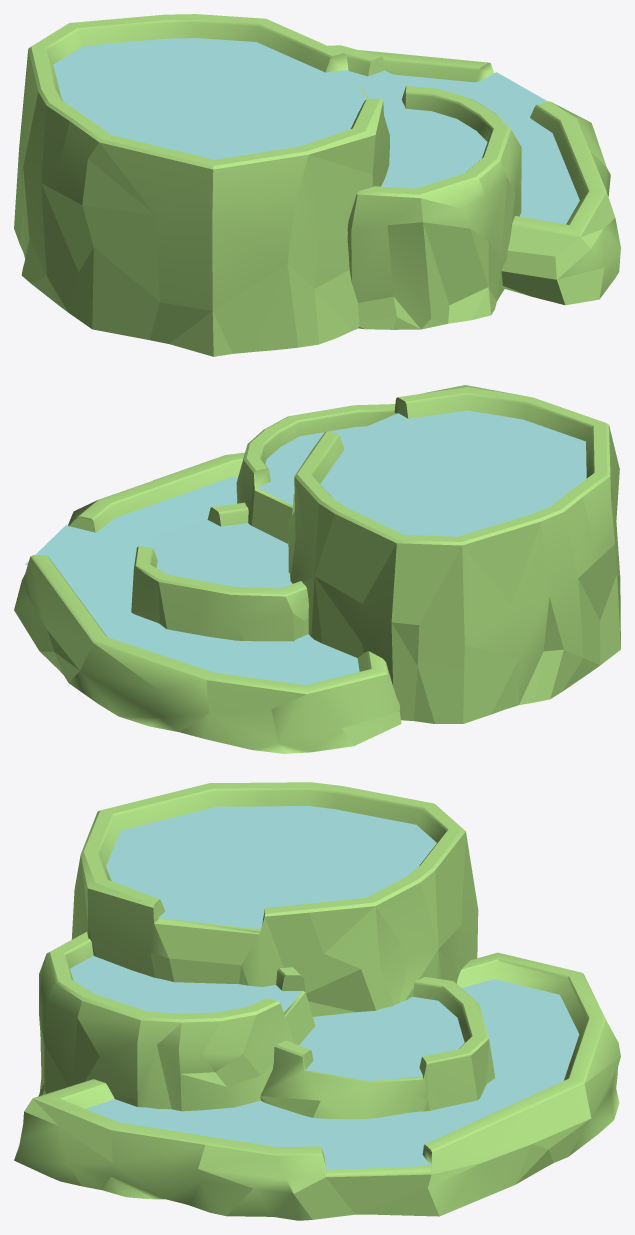
File: waterfall2.fbx
The picture shows the model from 3 angles, top to bottom: view 1: azimuth 30°, elevation 25°; view 2: azimuth 150°, elevation 25°; view 3: azimuth 270°, elevation 25°; orthographic projection. The views are drawn at different scales.
Visible parts, largest first — view 1: Fourth, FourthWater, Third, First, FirstWater, ThirdWater, SecondWater, Second; view 2: Fourth, First, FourthWater, FirstWater, Second, SecondWater, Third, ThirdWater; view 3: First, Fourth, FourthWater, Third, FirstWater, Second, SecondWater, ThirdWater.
Boxes of the visible parts, box(x1,y1,x2,y2) form: Fourth: box(14, 14, 389, 356); FourthWater: box(53, 38, 366, 159); Third: box(347, 85, 521, 329); First: box(359, 50, 620, 305); FirstWater: box(394, 72, 579, 224); ThirdWater: box(381, 100, 487, 188); SecondWater: box(349, 70, 418, 101); Second: box(328, 45, 384, 76); Fourth: box(288, 385, 620, 723); First: box(14, 452, 401, 753); FourthWater: box(320, 410, 586, 536); FirstWater: box(25, 476, 359, 685); Second: box(131, 502, 308, 641); SecondWater: box(147, 519, 292, 588); Third: box(236, 404, 395, 543); ThirdWater: box(257, 426, 366, 505); First: box(14, 952, 620, 1220); Fourth: box(71, 782, 478, 1016); FourthWater: box(106, 806, 436, 928); Third: box(38, 932, 315, 1111); FirstWater: box(86, 979, 579, 1170); Second: box(260, 977, 494, 1119); SecondWater: box(299, 996, 464, 1080); ThirdWater: box(70, 956, 302, 1013).
Bounding box in the file's own units: 17257 × 5627 × 16804.
